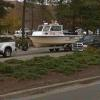Boat: (26, 18, 85, 51)
